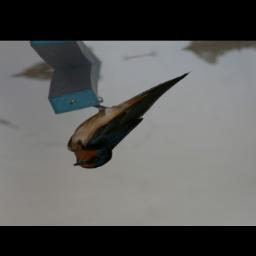Swallow: (45, 70, 218, 174)
